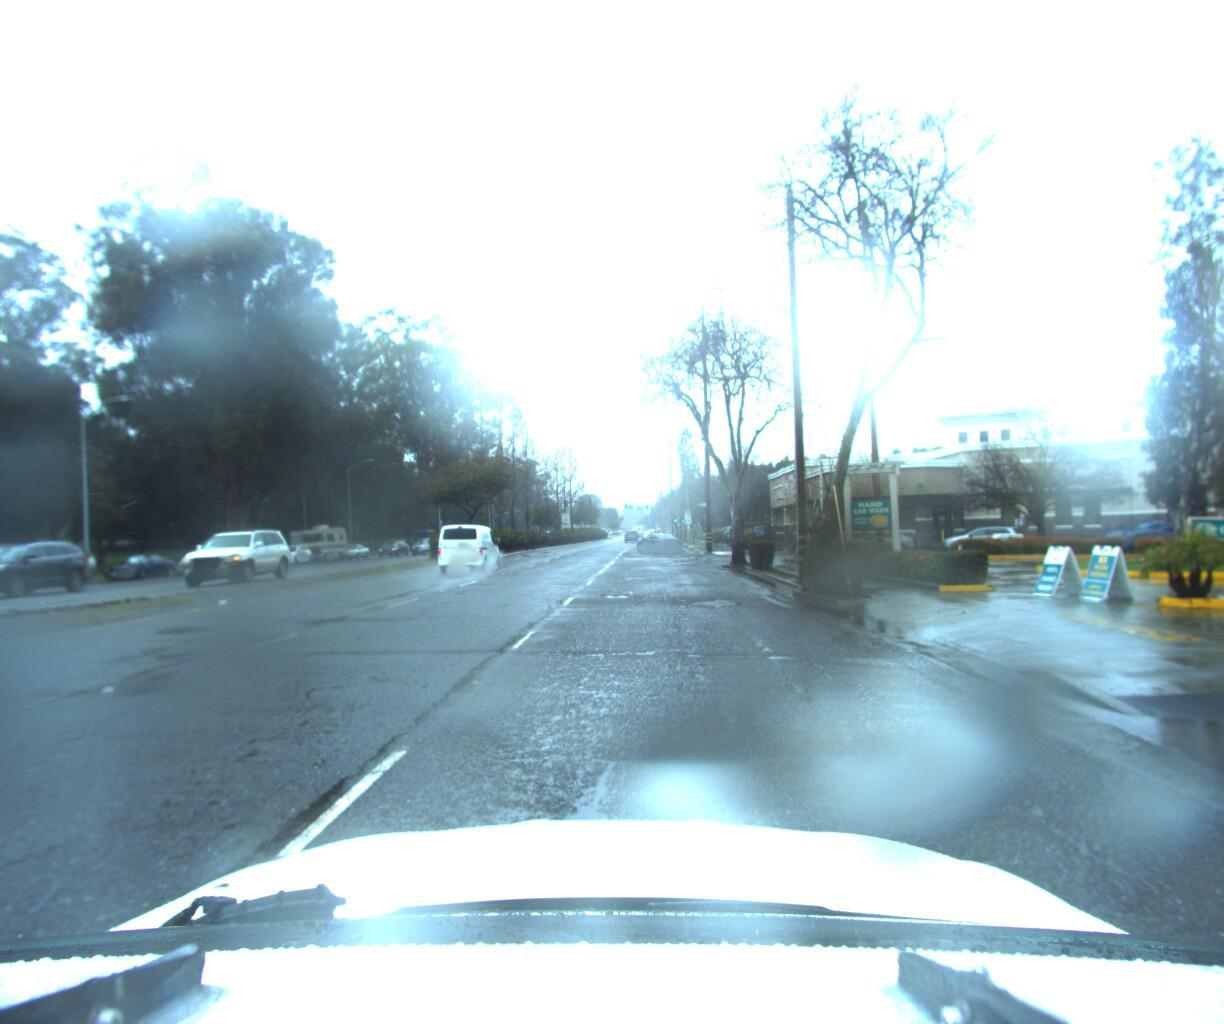car: (177, 525, 296, 588), (0, 539, 94, 606), (0, 541, 111, 596), (435, 518, 506, 567), (102, 552, 185, 585), (938, 519, 1019, 550), (839, 525, 917, 551), (630, 527, 683, 550), (266, 543, 318, 566), (333, 541, 372, 559), (0, 552, 12, 607)
other_vehicle: (284, 521, 353, 566)
